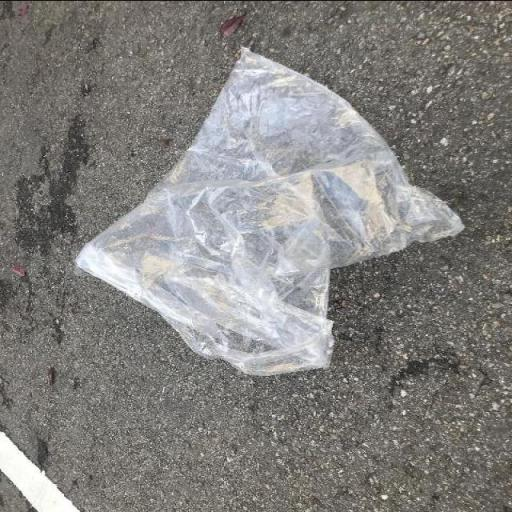plastic-bag: (72, 42, 474, 376)
